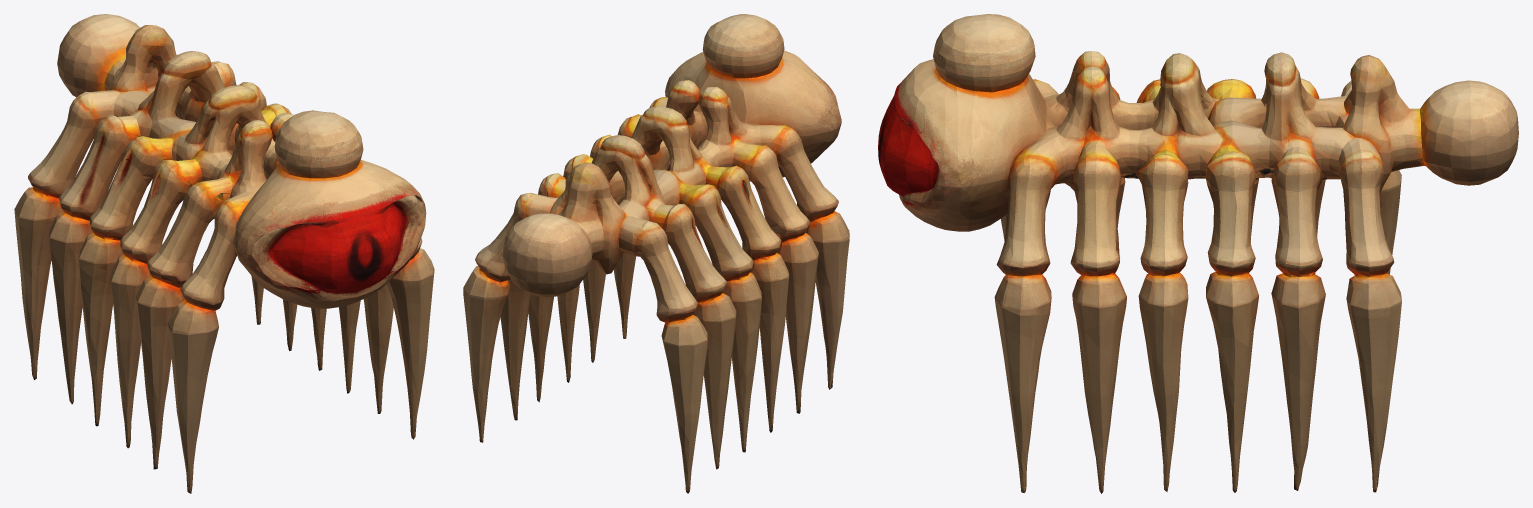
Rendered from trellis-1.glb.
The picture shows the model from 3 angles, left to right: view 1: azimuth 30°, elevation 25°; view 2: azimuth 150°, elevation 25°; view 3: azimuth 270°, elevation 25°; orthographic projection. The views are drawn at different scales.
Parts seen in each view (by area): view 1: world; view 2: world; view 3: world.
Boxes of the visible parts, x1=… form: world: x1=14, y1=14, x2=434, y2=493; world: x1=463, y1=14, x2=849, y2=493; world: x1=878, y1=14, x2=1518, y2=493.
Bounding box in the file's own units: 0.5373 × 0.7108 × 1.
Materials: 1 (1 with a texture image).
